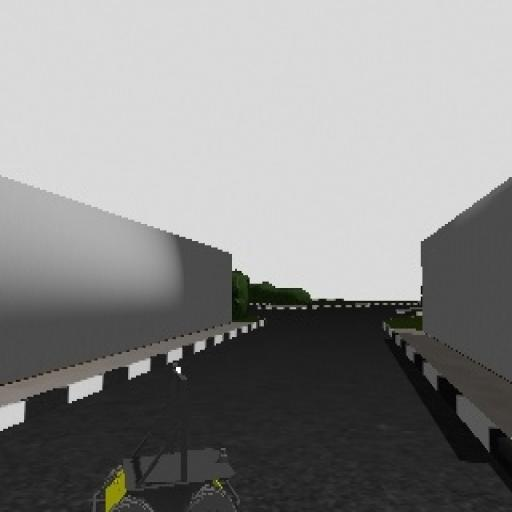huskya200: (83, 354, 256, 512)
